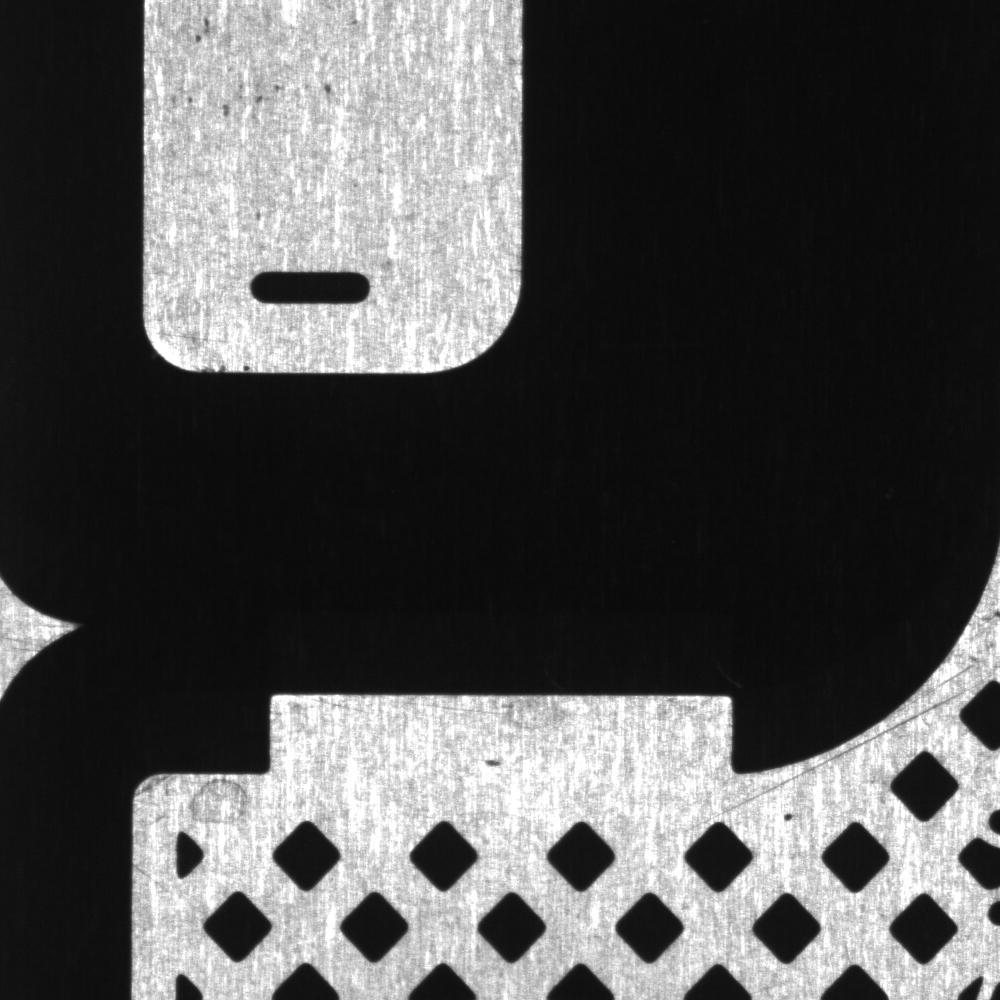Discolor: (135, 773, 260, 831)
Etching: (173, 66, 366, 129), (187, 348, 265, 379), (172, 11, 231, 48), (464, 748, 528, 776)
Scar: (690, 676, 992, 821), (407, 697, 513, 720), (304, 693, 381, 721)
